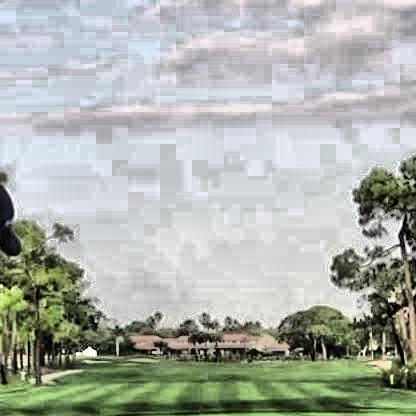golfball: (205, 314, 212, 321)
